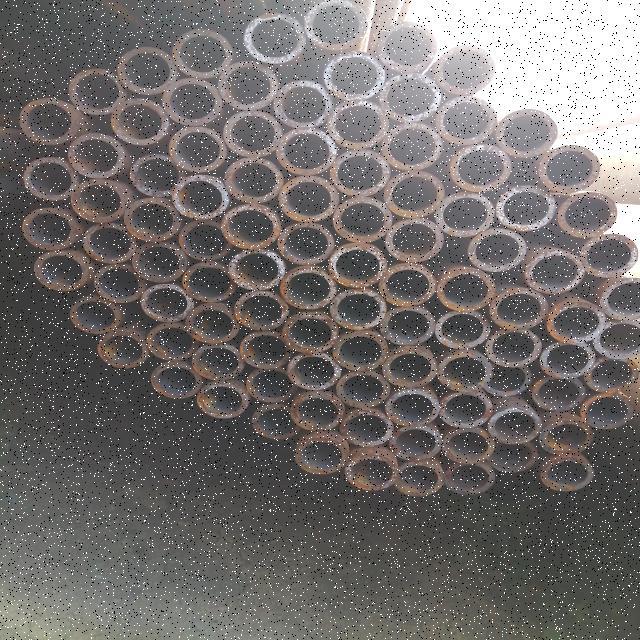pipe: (242, 12, 308, 64), (303, 0, 369, 51), (326, 147, 392, 197), (382, 168, 445, 220), (380, 121, 444, 171), (434, 190, 498, 240), (448, 143, 512, 192), (271, 80, 333, 130), (378, 73, 442, 121), (326, 50, 386, 101), (328, 100, 390, 149), (220, 157, 286, 203), (436, 96, 496, 146), (436, 44, 496, 94), (172, 28, 232, 78), (163, 78, 224, 126), (276, 127, 338, 174), (378, 22, 436, 72), (218, 61, 277, 110), (496, 108, 556, 156), (18, 98, 78, 146), (166, 126, 226, 174), (109, 99, 167, 148), (118, 47, 178, 94), (68, 69, 128, 116), (277, 174, 338, 220), (332, 196, 393, 242), (327, 241, 385, 289), (540, 144, 600, 190), (222, 110, 282, 156), (126, 152, 186, 198), (577, 234, 639, 278), (523, 250, 585, 294), (223, 203, 281, 250), (66, 133, 125, 179), (20, 206, 80, 251), (562, 192, 620, 238), (277, 221, 335, 267), (496, 185, 556, 229), (386, 218, 446, 262), (122, 198, 182, 242), (467, 227, 527, 270), (172, 174, 228, 220), (546, 302, 607, 344), (70, 179, 128, 223), (80, 220, 138, 264), (378, 263, 435, 307), (438, 268, 495, 312), (176, 218, 232, 262), (32, 250, 90, 292), (24, 157, 80, 200), (484, 327, 544, 367), (136, 284, 196, 324), (280, 268, 336, 310), (132, 240, 186, 283), (539, 340, 597, 380), (490, 288, 548, 328), (438, 352, 495, 392), (333, 330, 387, 372), (230, 250, 286, 290), (146, 321, 202, 361), (94, 329, 150, 369), (282, 312, 338, 352), (331, 290, 387, 330), (380, 308, 436, 348), (381, 346, 437, 386), (238, 330, 293, 370), (183, 262, 235, 304), (293, 438, 349, 477), (580, 392, 634, 432), (234, 292, 288, 332), (186, 304, 240, 344), (434, 310, 488, 350), (336, 371, 392, 409), (191, 344, 246, 382), (386, 389, 439, 428), (540, 456, 594, 494), (198, 382, 252, 420), (290, 394, 344, 432), (286, 354, 342, 390), (93, 265, 146, 303), (530, 375, 584, 412), (70, 295, 121, 334), (582, 356, 640, 390), (389, 424, 442, 461), (438, 392, 492, 428), (148, 362, 202, 398), (344, 455, 398, 491), (339, 411, 394, 446), (592, 320, 640, 360), (540, 420, 592, 456), (488, 408, 540, 444), (486, 438, 538, 474), (244, 368, 296, 404), (444, 462, 498, 496), (442, 428, 494, 463), (482, 361, 534, 396), (600, 276, 640, 320), (252, 404, 300, 440), (396, 462, 444, 496)
